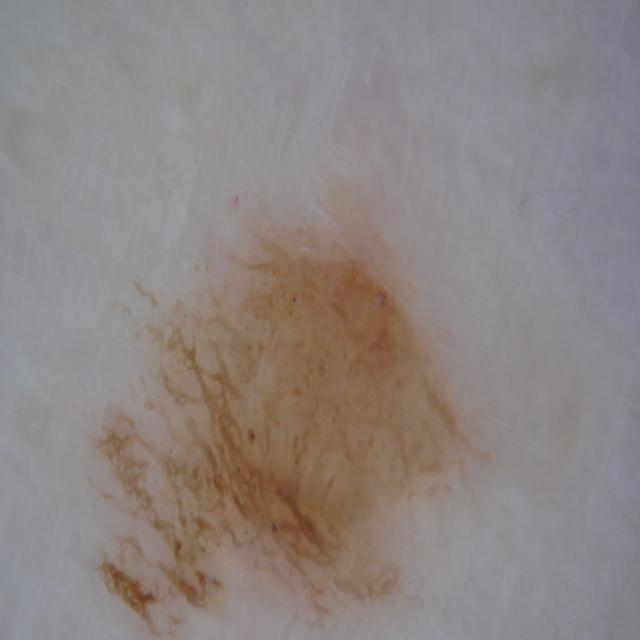Melanoma: (44, 183, 525, 640)
